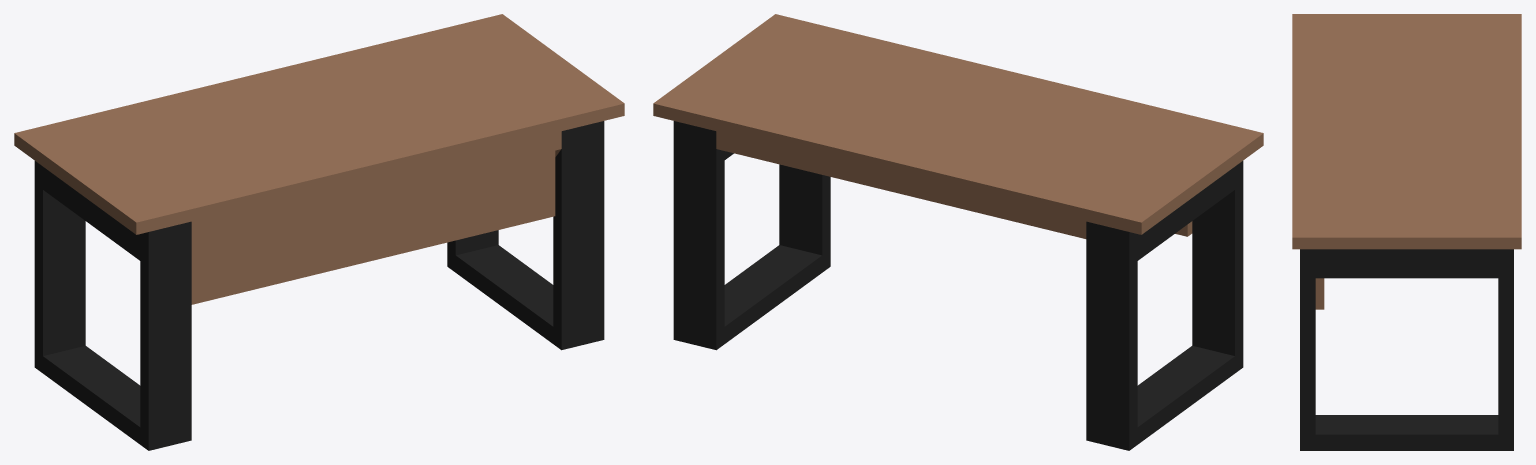
File: Table.fbx
The picture shows the model from 3 angles, left to right: view 1: azimuth 30°, elevation 25°; view 2: azimuth 150°, elevation 25°; view 3: azimuth 270°, elevation 25°; orthographic projection. The views are drawn at different scales.
Visible parts, largest first — view 1: Table; view 2: Table; view 3: Table.
Part boxes in pixels (bbox=[...]): Table: bbox=[14, 14, 624, 450]; Table: bbox=[653, 14, 1263, 450]; Table: bbox=[1292, 14, 1521, 450].
Bounding box in the file's own units: 1.92 × 0.8848 × 0.8333.
